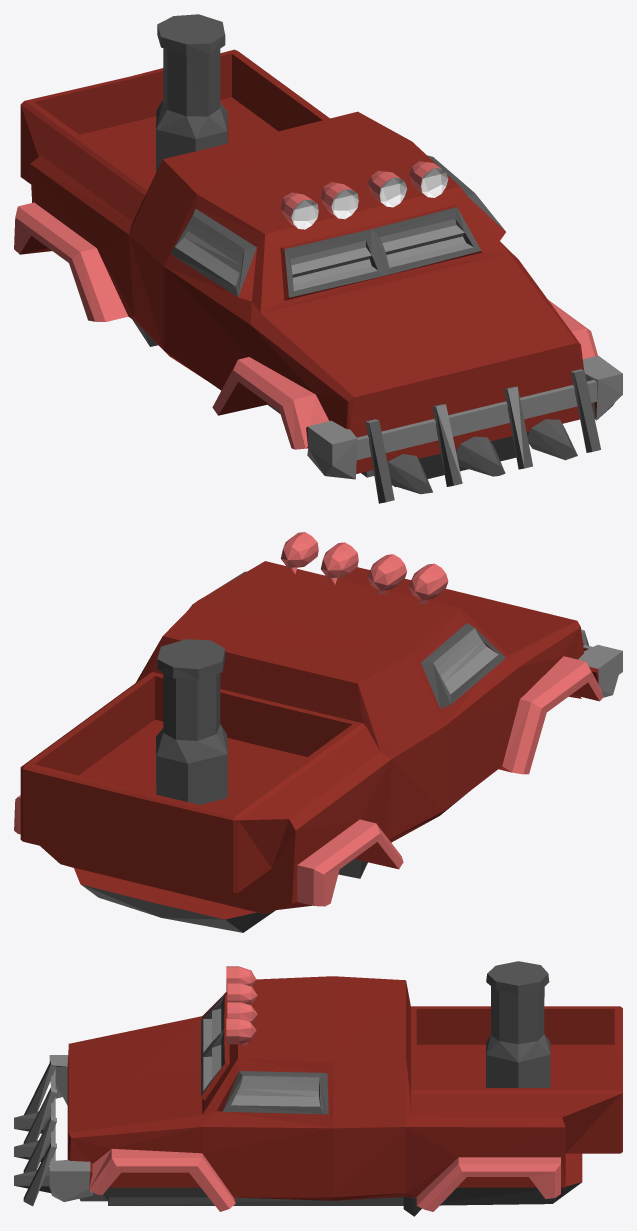
File: vehicle enemy pickup.glb
The picture shows the model from 3 angles, top to bottom: view 1: azimuth 30°, elevation 25°; view 2: azimuth 150°, elevation 25°; view 3: azimuth 270°, elevation 25°; orthographic projection. The views are drawn at different scales.
Visible parts, largest first — view 1: pickup; view 2: pickup; view 3: pickup.
Boxes of the visible parts, box(x1,y1,x2,y2) form: pickup: box(14, 14, 622, 503); pickup: box(14, 532, 622, 932); pickup: box(14, 961, 622, 1216).
Bounding box in the file's own units: 3.14 × 2.39 × 6.5.
